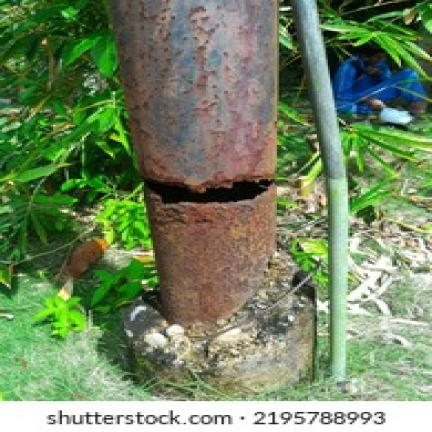karat: (151, 192, 275, 321)
